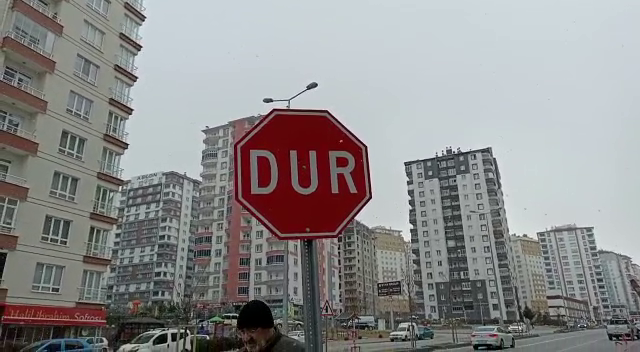stop: (231, 105, 374, 243)
